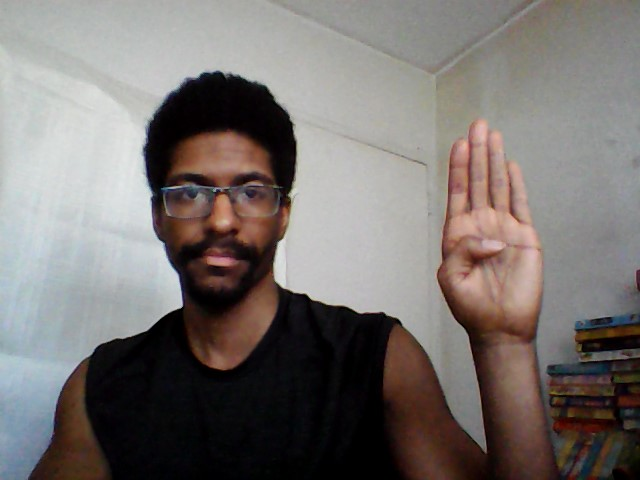b: (433, 116, 549, 343)
